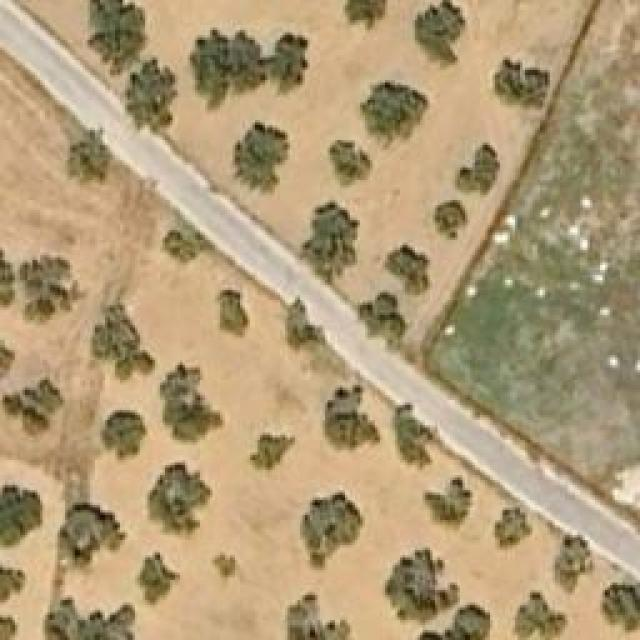Tree: (190, 28, 263, 111), (157, 360, 225, 445), (385, 548, 458, 621), (90, 300, 155, 380), (355, 80, 428, 150), (148, 462, 213, 540), (302, 200, 360, 285), (300, 493, 363, 568), (88, 0, 148, 75), (57, 503, 125, 568), (232, 120, 290, 195), (17, 255, 75, 325), (3, 378, 66, 438), (125, 58, 175, 133), (325, 385, 380, 448), (415, 0, 465, 65), (400, 605, 490, 640), (288, 595, 353, 640), (270, 33, 313, 96), (495, 58, 548, 108), (383, 243, 433, 296), (515, 590, 568, 640), (423, 478, 473, 531), (395, 402, 433, 470), (0, 485, 40, 545), (68, 133, 113, 186), (455, 143, 500, 196), (555, 533, 593, 593), (138, 553, 181, 606), (287, 295, 325, 353), (328, 140, 373, 188), (250, 433, 300, 476), (360, 293, 405, 338), (163, 225, 213, 265), (103, 413, 146, 458), (600, 582, 640, 630), (495, 508, 533, 553), (435, 200, 468, 240), (345, 0, 388, 30), (220, 290, 248, 335), (213, 553, 246, 588), (0, 565, 25, 605), (0, 615, 20, 640)
